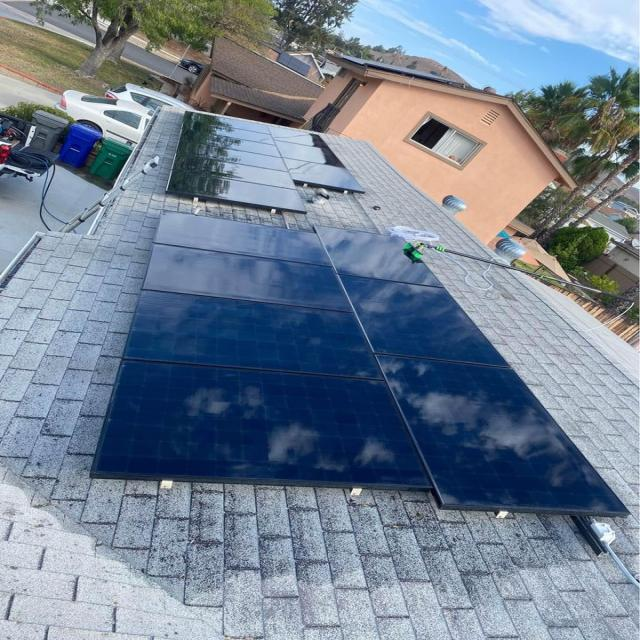clean-solar-panel: (93, 211, 628, 513)
